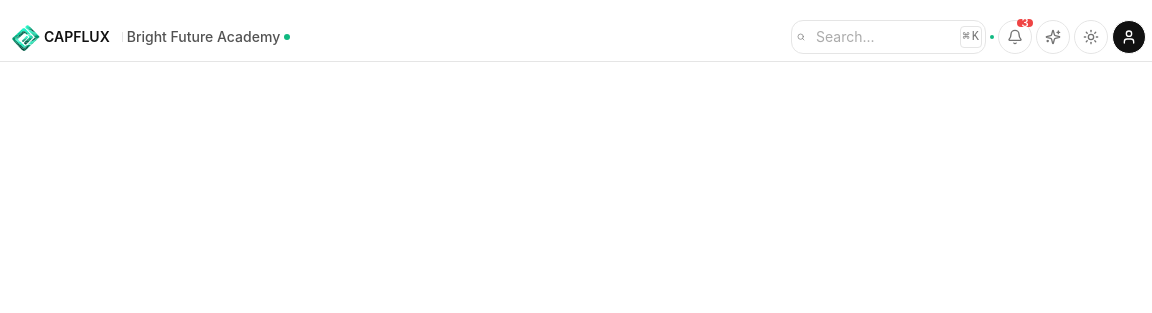
Test: AppHeader.vue › opens the profile popover when avatar is clicked
Step 1. Click the button with test id "profile-avatar" → (1129, 36), box x1=1112 y1=20 x2=1146 y2=54
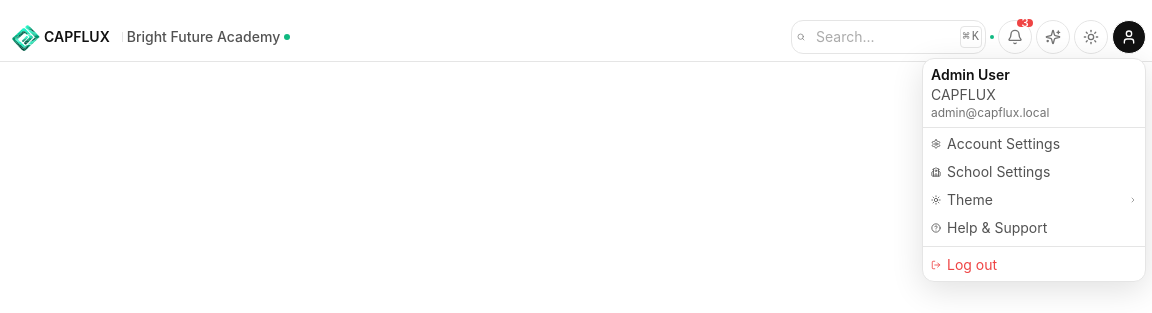
Check: the menu with class "z-popover" is shown, box x1=922 y1=58 x2=1146 y2=282
